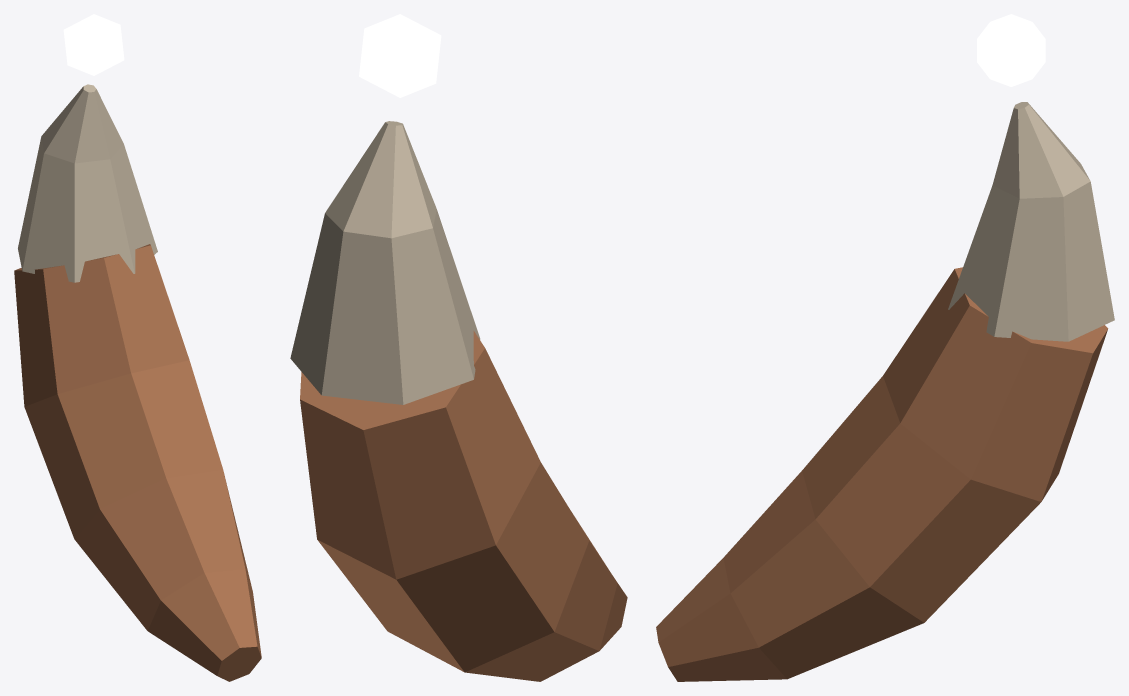
File: tail-fox.glb
The picture shows the model from 3 angles, left to right: view 1: azimuth 30°, elevation 25°; view 2: azimuth 150°, elevation 25°; view 3: azimuth 270°, elevation 25°; orthographic projection. The views are drawn at different scales.
Parts seen in each view (by area): view 1: tail; view 2: tail; view 3: tail.
Part boxes in pixels (x1,y1,x2,y2): tail: (14, 14, 261, 681); tail: (290, 14, 627, 681); tail: (656, 14, 1114, 681).
Size of the model in its own units: 0.1996 by 0.7267 by 0.4545.
